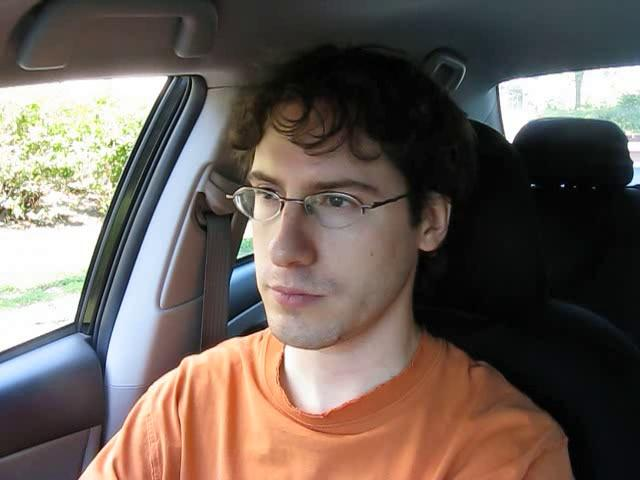no_yawn: (253, 271, 343, 322)
open_eyeL: (243, 180, 293, 215)
open_eyeR: (308, 182, 379, 225)
